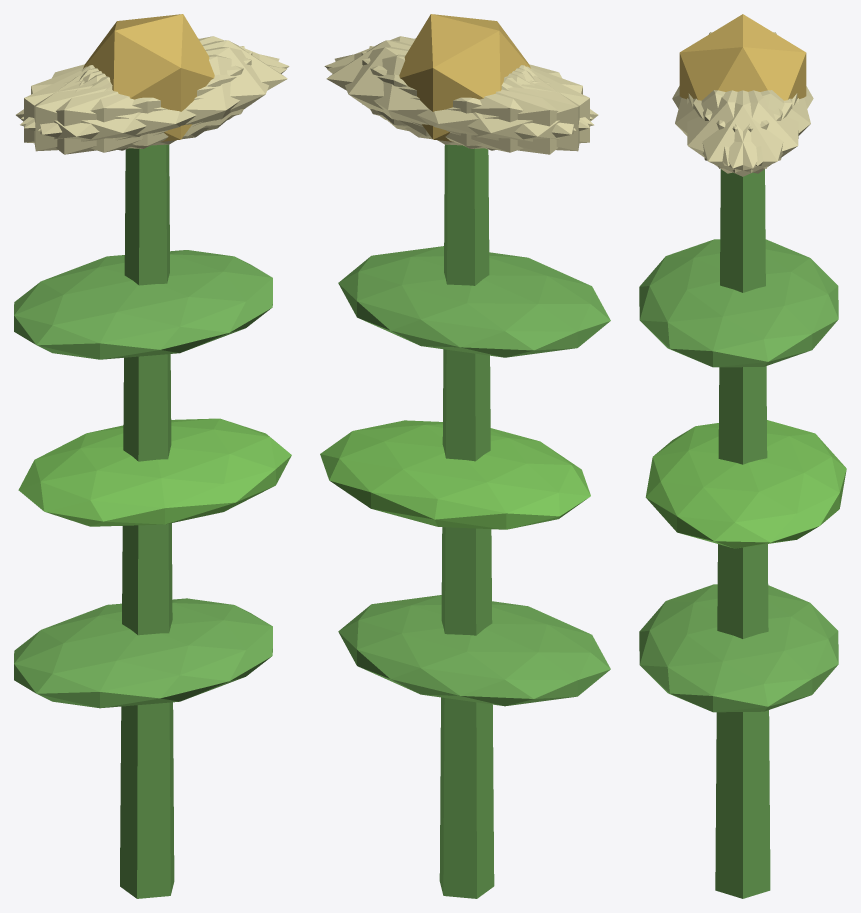
The model's file is alternanthera-brasiliana.glb.
3 views of the same model, side by side, from view 1: azimuth 30°, elevation 25°; view 2: azimuth 150°, elevation 25°; view 3: azimuth 270°, elevation 25° (orthographic).
Visible parts, largest first — view 1: stem, leaf2, leaf0, leaf1, center, petal1, petal6, petal2, petal5, petal7, petal0, petal4 (+2 smaller); view 2: stem, leaf2, leaf1, leaf0, center, petal8, petal3, petal7, petal4, petal2, petal0, petal5 (+1 smaller); view 3: stem, leaf1, leaf2, leaf0, center, petal0, petal4, petal5, petal1, petal8.
Part boxes in pixels (x1,y1,x2,y2): stem: (120, 144, 174, 898); leaf2: (14, 250, 272, 359); leaf0: (14, 598, 272, 708); leaf1: (18, 418, 291, 526); center: (83, 14, 214, 141); petal1: (20, 54, 286, 152); petal6: (16, 66, 208, 154); petal2: (34, 46, 244, 151); petal5: (38, 47, 279, 145); petal7: (24, 51, 252, 148); petal0: (83, 40, 287, 136); petal4: (21, 36, 289, 128); stem: (439, 144, 494, 898); leaf2: (338, 246, 610, 357); leaf1: (320, 420, 590, 529); leaf0: (338, 595, 610, 706); center: (399, 14, 530, 141); petal8: (327, 54, 593, 152); petal3: (405, 66, 598, 154); petal7: (369, 46, 579, 151); petal4: (334, 47, 575, 145); petal2: (361, 51, 589, 148); petal0: (326, 40, 531, 136); petal5: (324, 36, 592, 128); stem: (715, 169, 770, 898); leaf1: (645, 420, 846, 548); leaf2: (639, 239, 838, 367); leaf0: (639, 584, 838, 712); center: (679, 14, 806, 100); petal0: (688, 90, 797, 176); petal4: (693, 90, 798, 173); petal5: (687, 90, 792, 173); petal1: (675, 90, 782, 165); petal8: (703, 90, 810, 166).
Size of the model in its own units: 0.1462 by 0.4564 by 0.1003.
